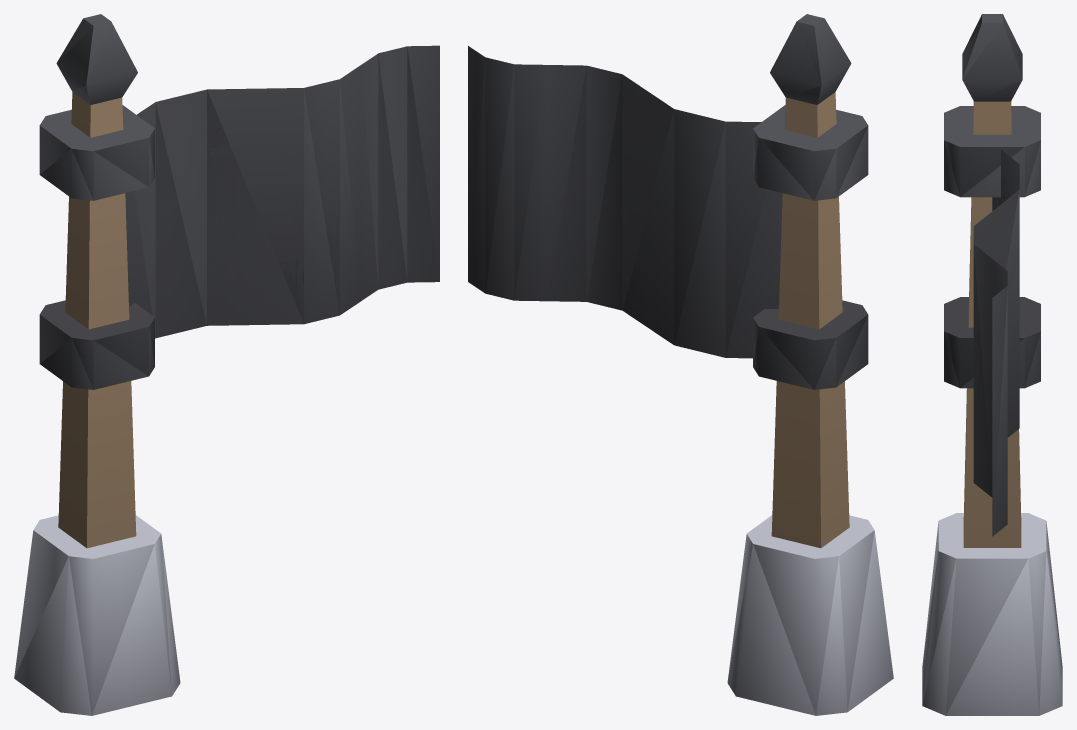
The model's file is K_Flag.glb.
The picture shows the model from 3 angles, left to right: view 1: azimuth 30°, elevation 25°; view 2: azimuth 150°, elevation 25°; view 3: azimuth 270°, elevation 25°; orthographic projection.
Parts seen in each view (by area): view 1: K_Flag; view 2: K_Flag; view 3: K_Flag.
Part boxes in pixels (box(x1,y1,x2,y2)): K_Flag: box(14, 14, 439, 715); K_Flag: box(468, 14, 893, 715); K_Flag: box(922, 14, 1062, 715).
Size of the model in its own units: 1.87 by 2.94 by 0.5585.
